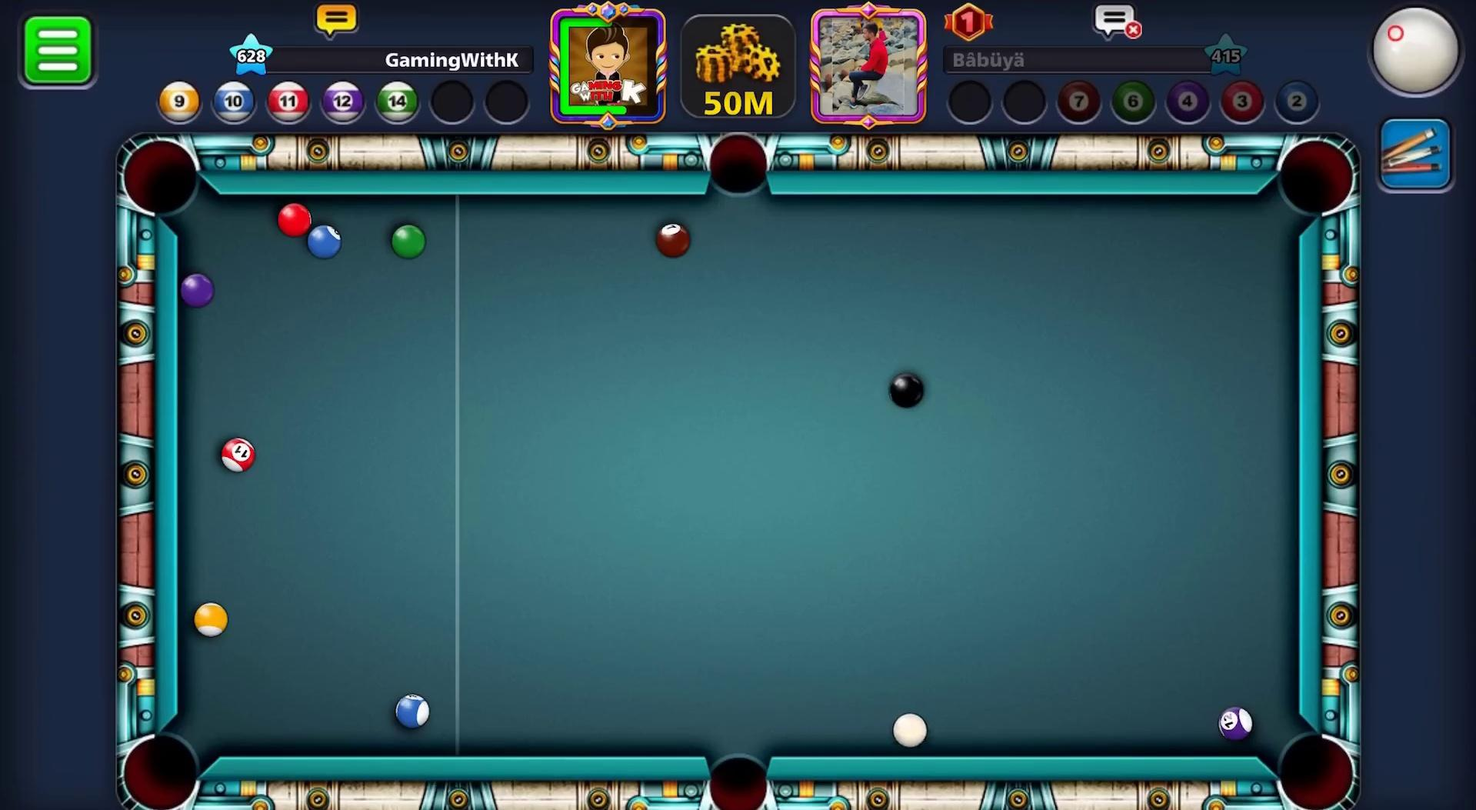Ball: (296, 221, 346, 267), (645, 216, 696, 260), (1213, 702, 1259, 745), (176, 265, 217, 313), (884, 369, 928, 413), (274, 197, 318, 240), (391, 692, 430, 731), (192, 600, 229, 638), (387, 222, 425, 259), (218, 433, 254, 472)
Hole: (111, 123, 221, 233), (102, 718, 220, 809), (1255, 715, 1367, 809), (1264, 127, 1364, 228), (693, 122, 788, 215), (691, 740, 786, 809)
Play_Area: (177, 195, 1298, 756)
Spin: (1362, 0, 1475, 111)
White: (885, 711, 931, 749)
